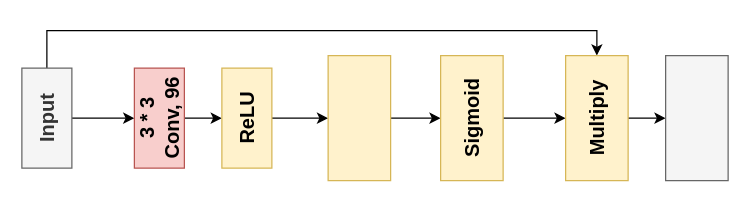
This 750x203 diagram has some shape labels left out. The centre of each missing label's shape, as x and y in pixels:
1 * 1 Conv, 1: (359,117)
Output: (696,117)
